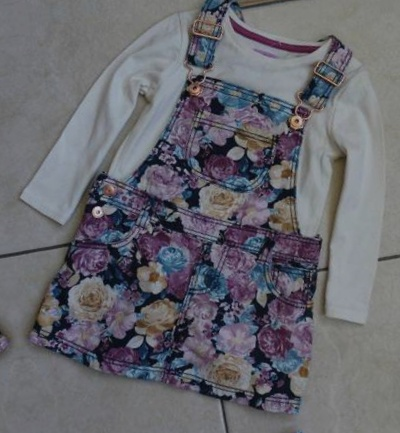Dress: (0, 0, 400, 433), (0, 57, 36, 433), (42, 404, 400, 433), (384, 0, 400, 391)
